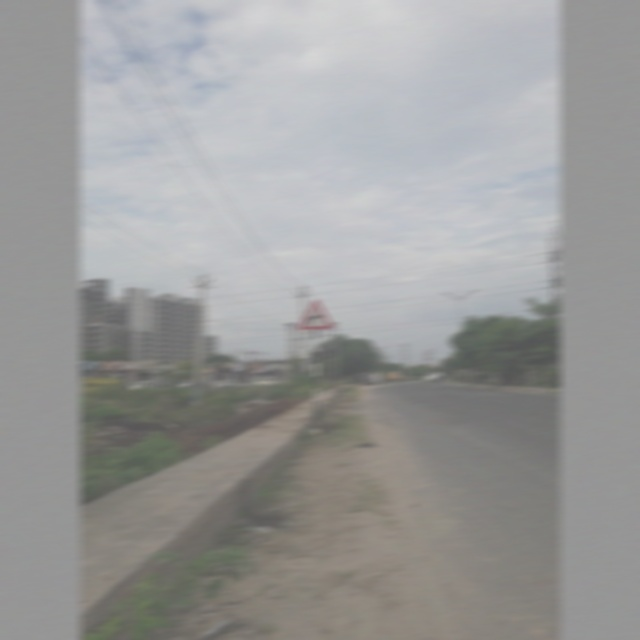Right_Hand_Curve: (298, 298, 333, 333)
